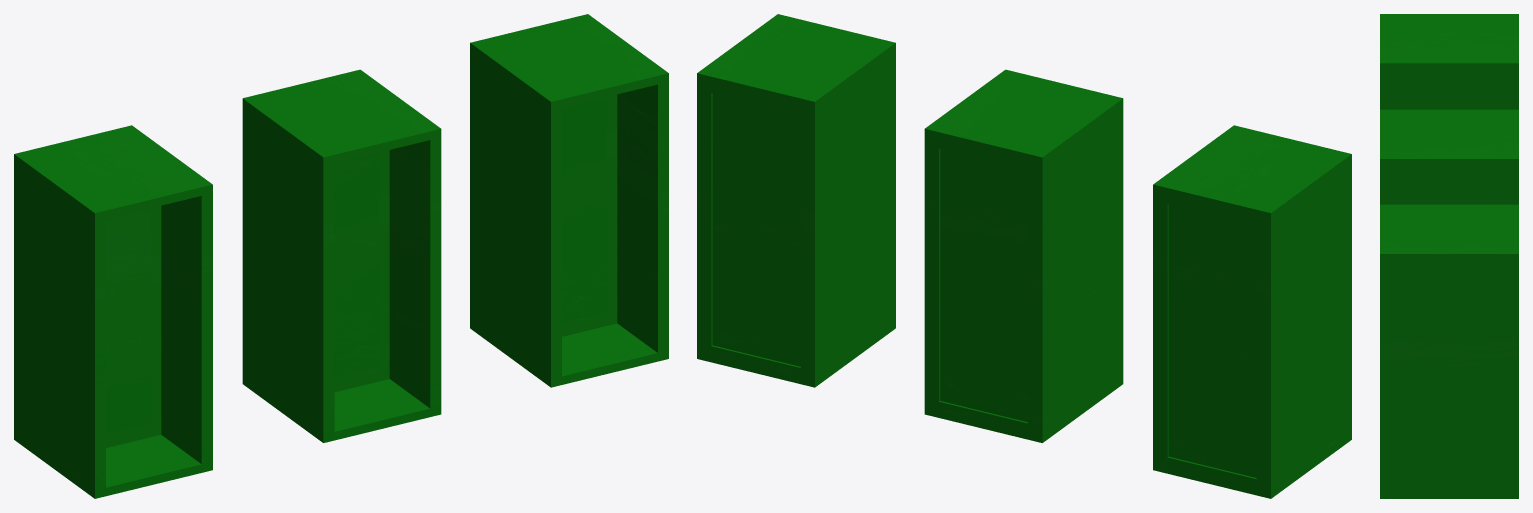
The model's file is ohuda.obj.
3 views of the same model, side by side, from view 1: azimuth 30°, elevation 25°; view 2: azimuth 150°, elevation 25°; view 3: azimuth 270°, elevation 25° (orthographic). The views are drawn at different scales.
Visible parts, largest first — view 1: 立方体.011; view 2: 立方体.011; view 3: 立方体.011.
Part boxes in pixels (x1,y1,x2,y2): 立方体.011: (14, 14, 668, 498); 立方体.011: (697, 14, 1351, 498); 立方体.011: (1380, 14, 1518, 498).
Size of the model in its own units: 100 by 47.58 by 24.42.
Materials: 1 (1 with a texture image).
